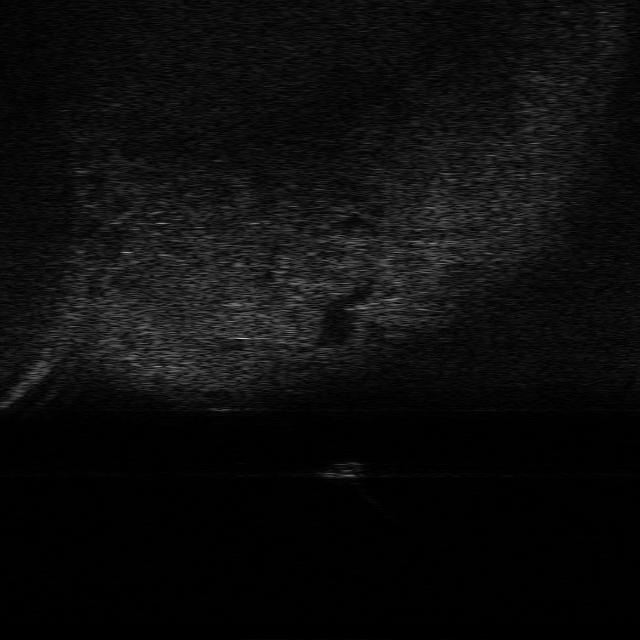cube: (323, 460, 362, 480)
